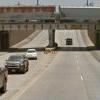Car: (2, 45, 51, 74)
